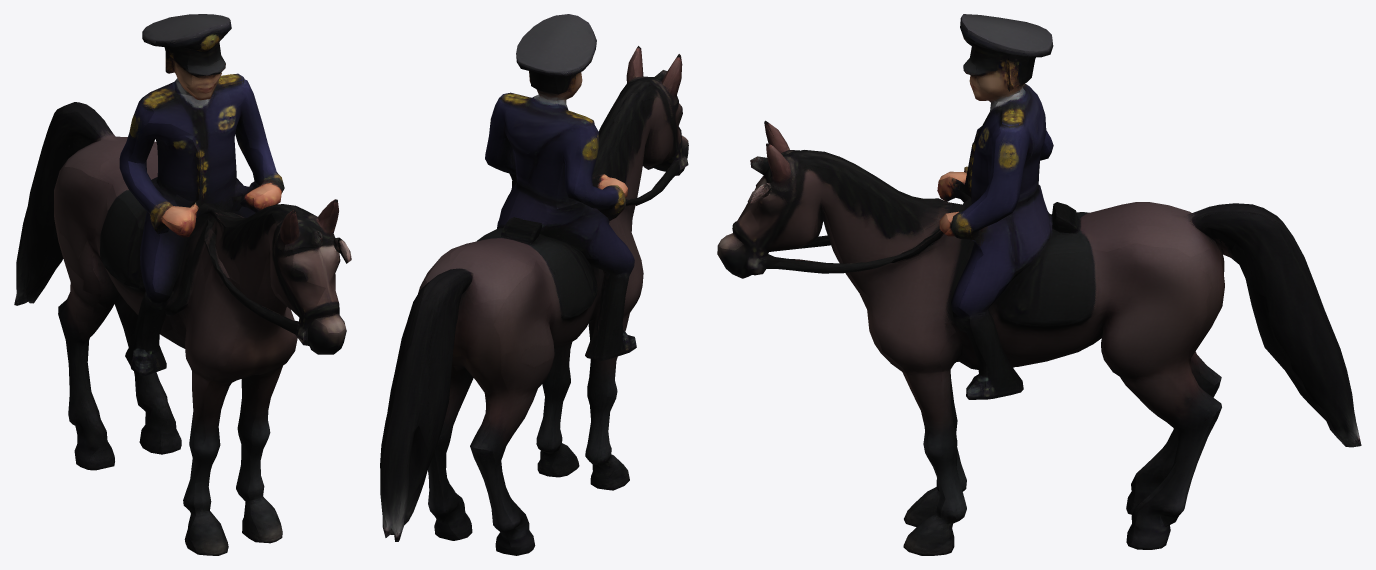
Rendered from cavalry.glb.
3 views of the same model, side by side, from view 1: azimuth 30°, elevation 25°; view 2: azimuth 150°, elevation 25°; view 3: azimuth 270°, elevation 25° (orthographic). The views are drawn at different scales.
Parts seen in each view (by area): view 1: geometry_0; view 2: geometry_0; view 3: geometry_0.
Boxes of the visible parts, bbox=[...] form: geometry_0: bbox=[14, 14, 351, 555]; geometry_0: bbox=[380, 14, 688, 555]; geometry_0: bbox=[717, 14, 1361, 555].
Bounding box in the file's own units: 0.23 × 0.729 × 0.8288.
Materials: 1 (1 with a texture image).
